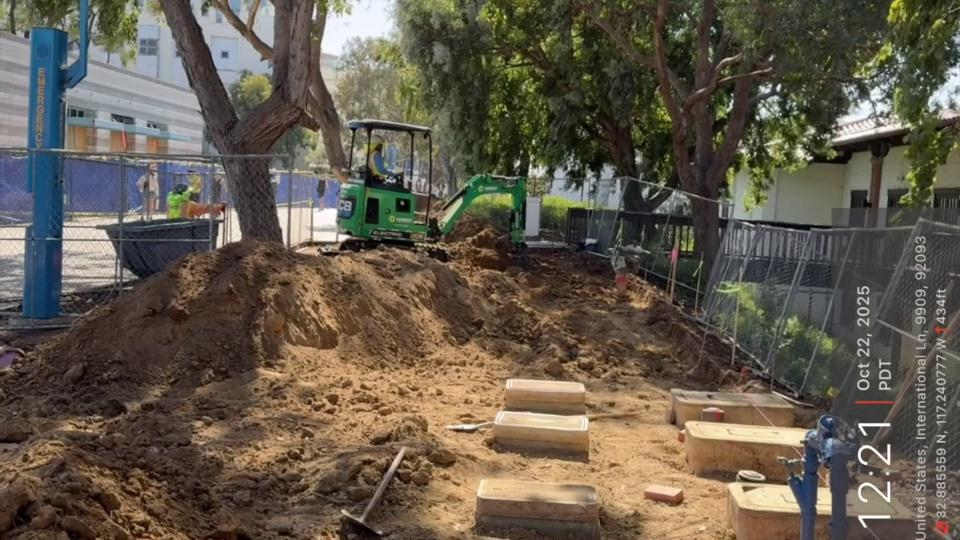Exacavator: (332, 117, 529, 256)
